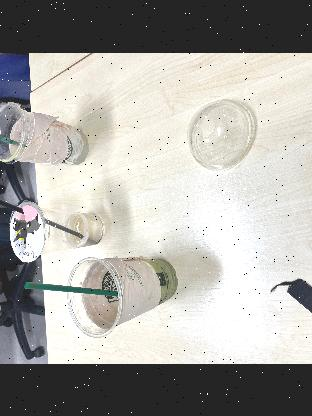Others: (64, 255, 178, 337), (0, 100, 93, 169), (1, 199, 105, 259), (182, 96, 260, 170), (0, 186, 91, 242), (16, 272, 138, 302), (0, 95, 30, 164), (0, 116, 30, 151)
